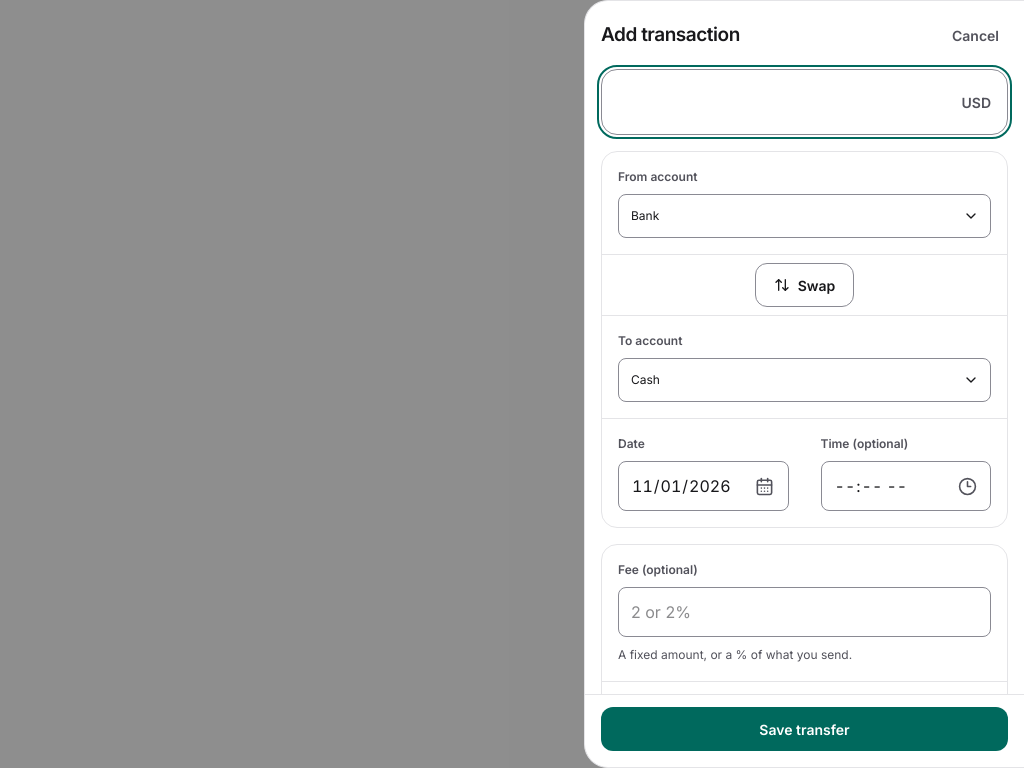
explains the one Fee box and previews what leaves the sending account
This screenshot has width=1024, height=768.
Expected: the text "A fixed amount, or a % of what you send." is shown, [618,647,852,662]
Type "100" into the field named "Amount (USD)".
click(784, 102); type("100")  # box [618,70,950,134]
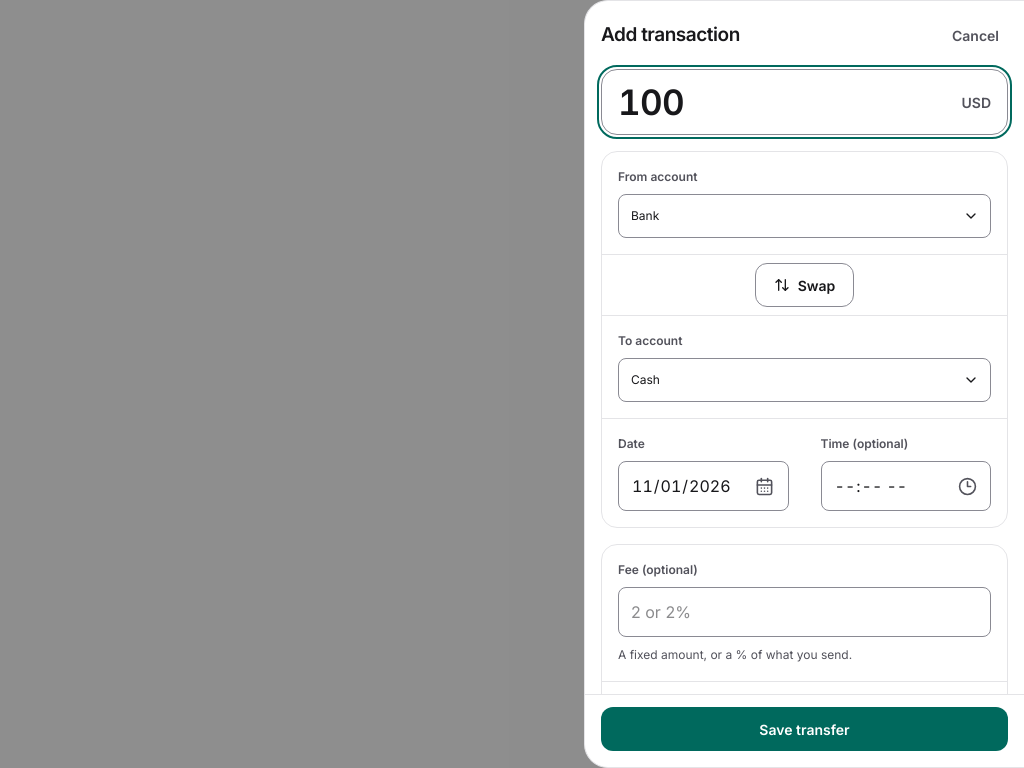
Type "2" into the field labelled "Fee (optional)".
click(804, 612); type("2")  # box [618,587,991,637]
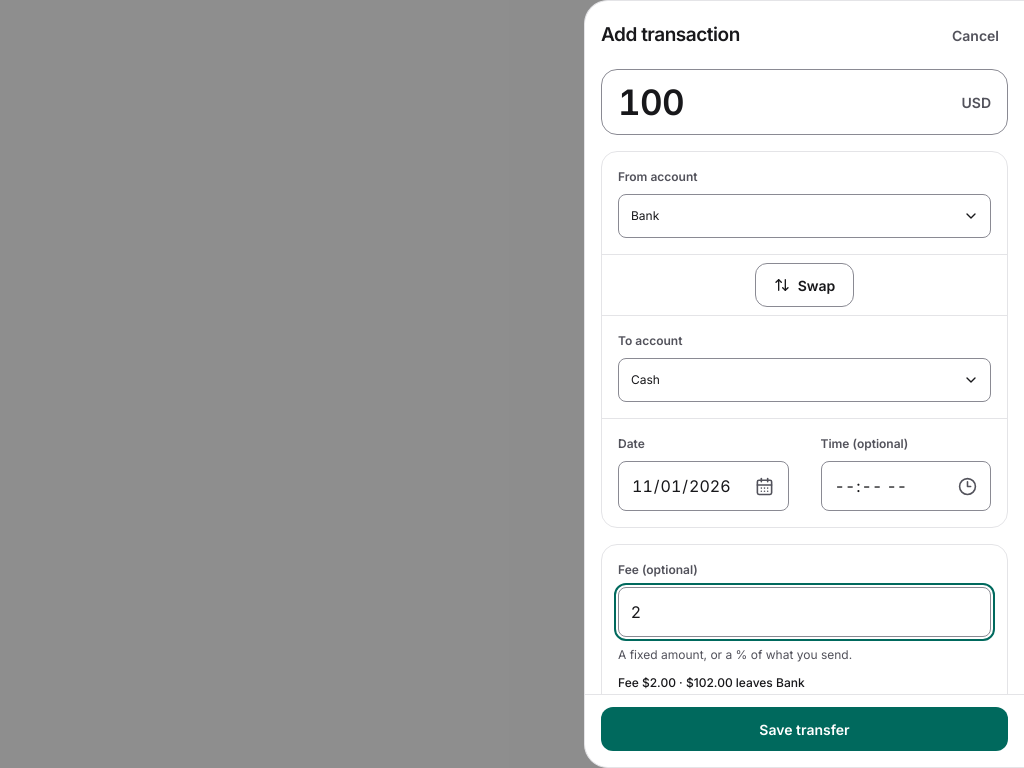
Expected: the element with id "transfer-fee-preview" reads "Fee $2.00 · $102.00 leaves Bank", [618,675,805,690]
Replace the text in the field labelled "Fee (optional)" with "1.5%" at point(804, 612), box [618,587,991,637]
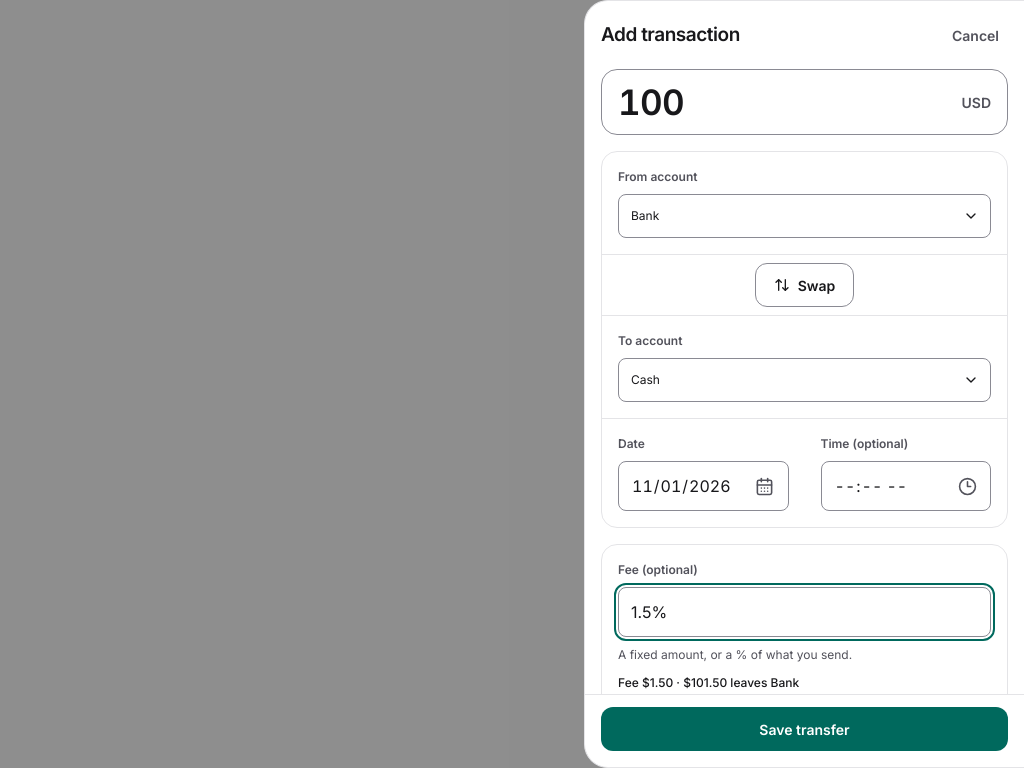
Expected: the element with id "transfer-fee-preview" reads "Fee $1.50 · $101.50 leaves Bank", [618,675,799,690]
Clear the field labelled "Fee (optional)" at point(804, 612), box [618,587,991,637]
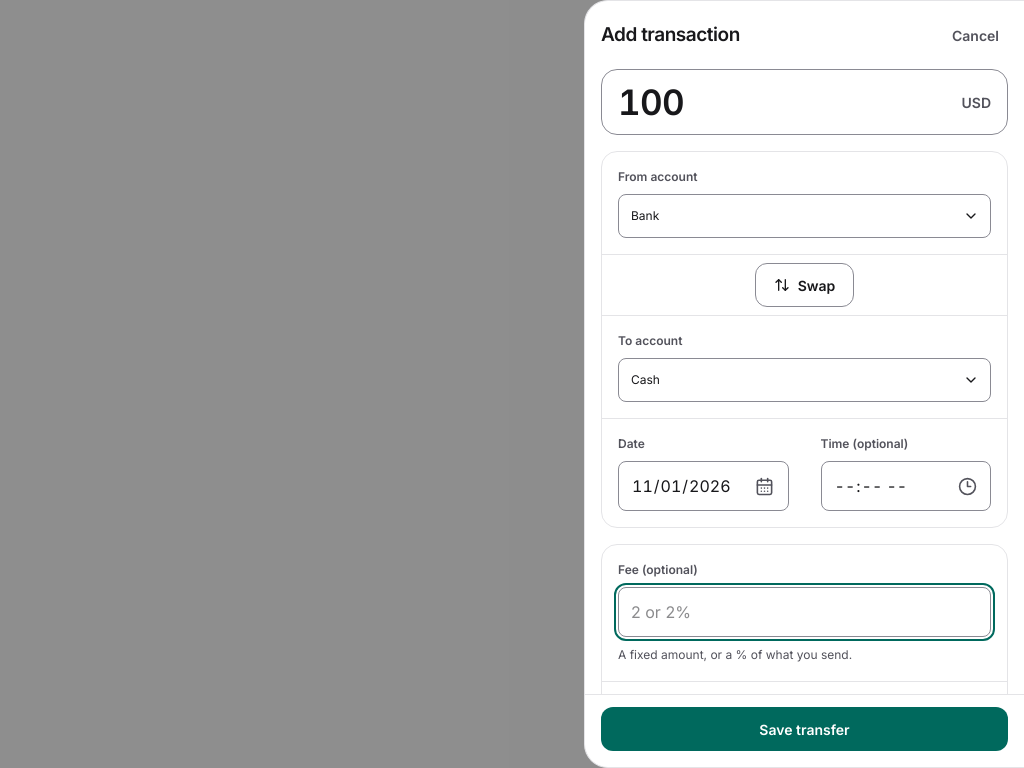
Expected: the text "leaves" is gone
